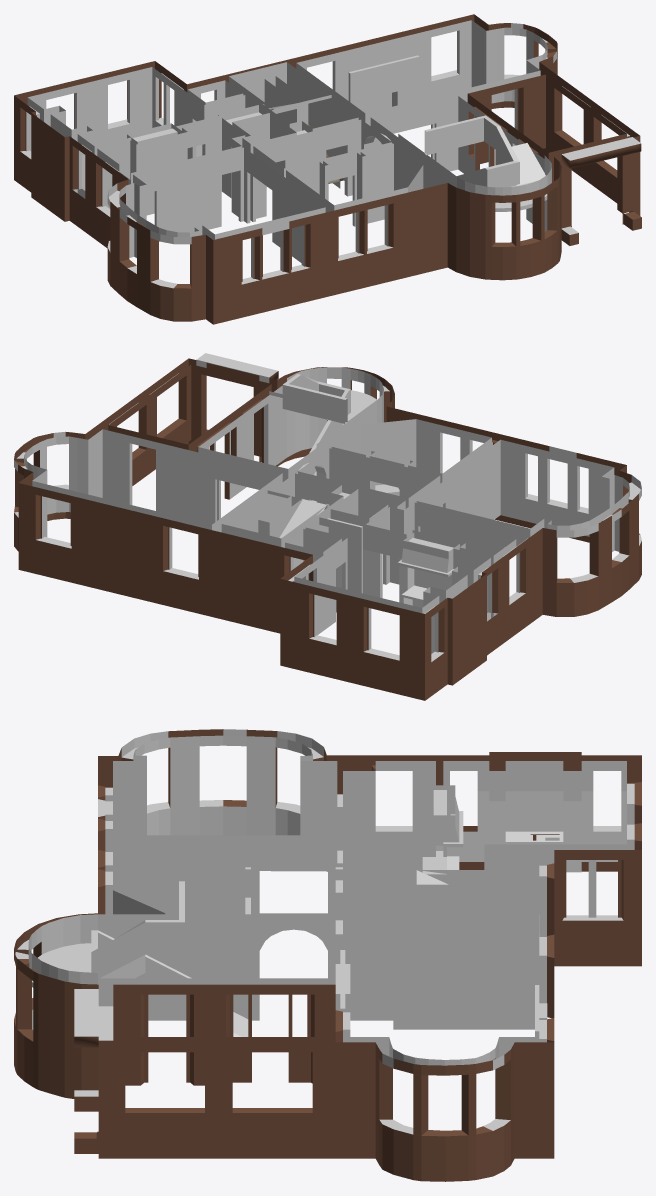
Rendered from Manor_Structure_F0_collider.fbx.
3 views of the same model, one above another, from view 1: azimuth 30°, elevation 25°; view 2: azimuth 150°, elevation 25°; view 3: azimuth 270°, elevation 25° (orthographic). The views are drawn at different scales.
Parts seen in each view (by area): view 1: Walls_F0_collider; view 2: Walls_F0_collider; view 3: Walls_F0_collider.
Boxes of the visible parts, box(x1,y1,x2,y2) form: Walls_F0_collider: box(14, 14, 641, 324); Walls_F0_collider: box(14, 353, 641, 700); Walls_F0_collider: box(14, 729, 641, 1181).
Size of the model in its own units: 21.41 by 4.56 by 16.89.
